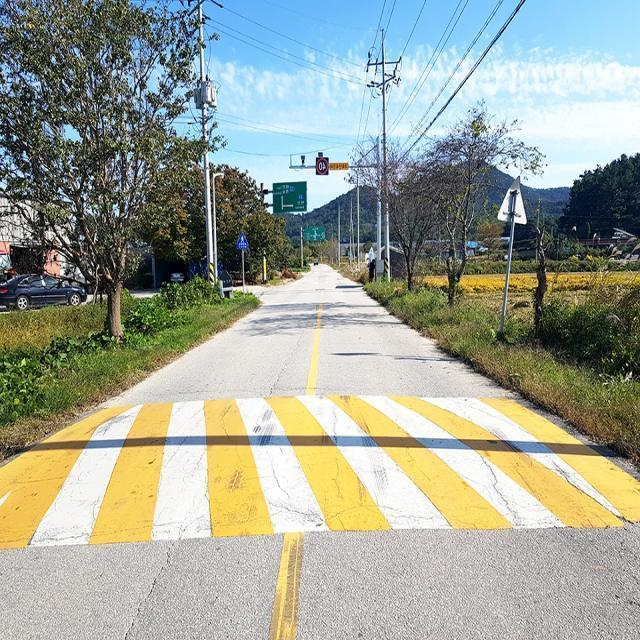speedbreaker: (0, 386, 640, 556)
